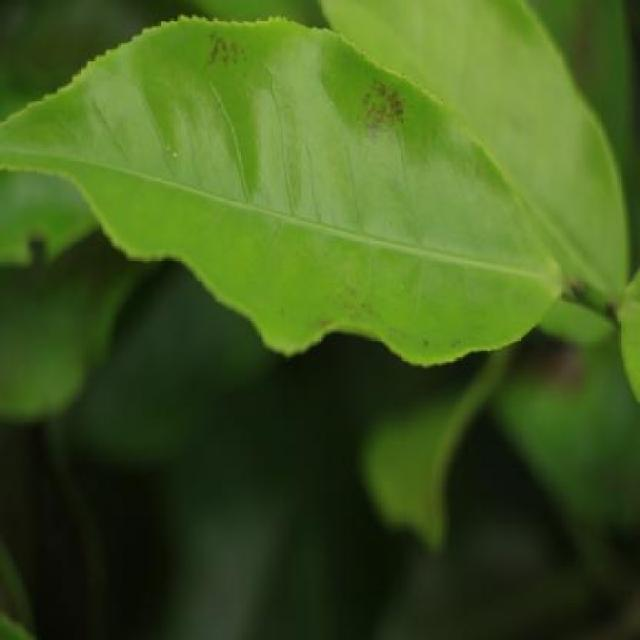Red Spider infested tea leaf: (5, 11, 637, 351)
